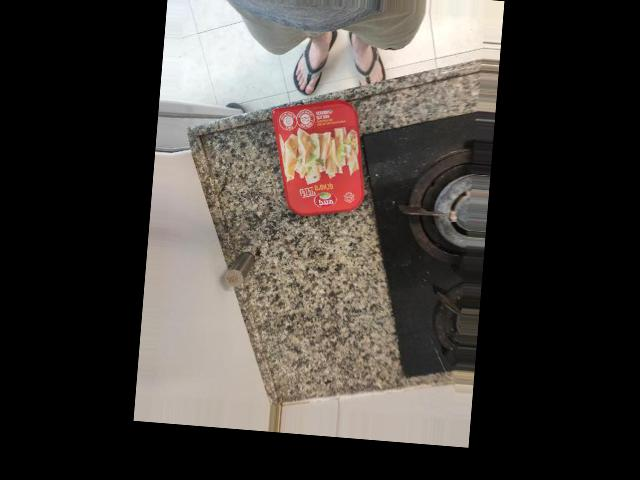cheese: (264, 190, 368, 303)
